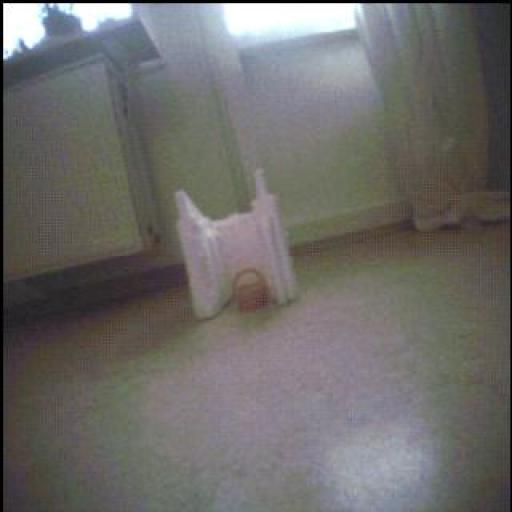Basket: (235, 269, 272, 312)
